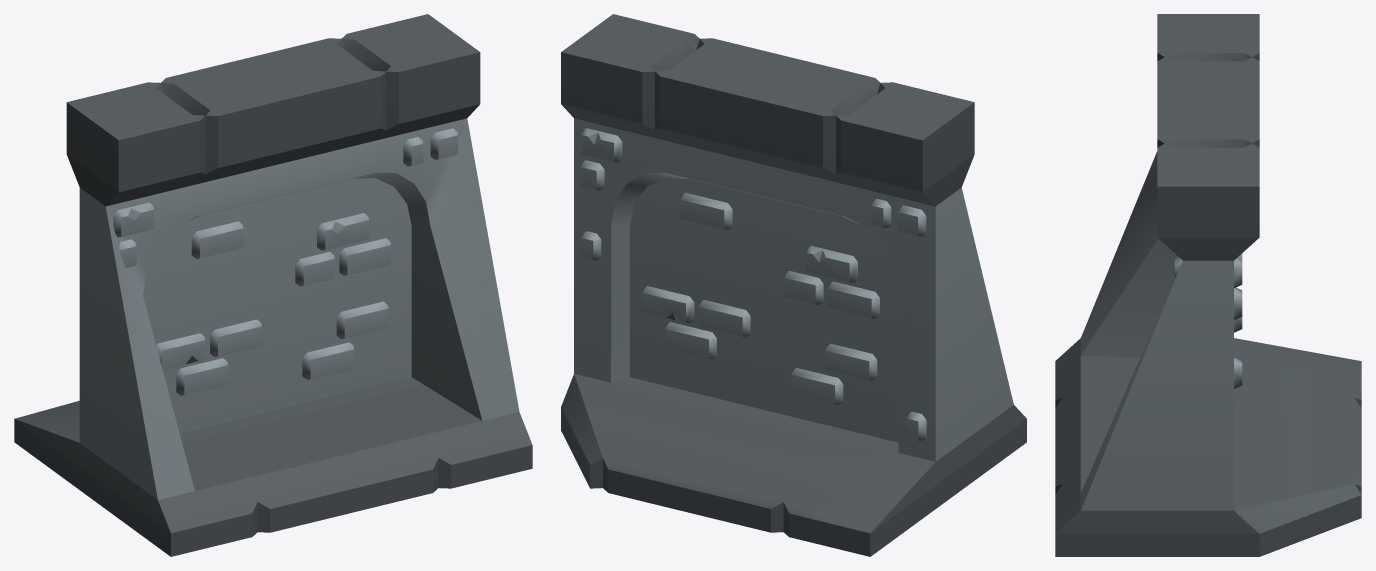
The model's file is arched_chimney.glb.
The picture shows the model from 3 angles, left to right: view 1: azimuth 30°, elevation 25°; view 2: azimuth 150°, elevation 25°; view 3: azimuth 270°, elevation 25°; orthographic projection. The views are drawn at different scales.
Parts seen in each view (by area): view 1: wall_arched.001; view 2: wall_arched.001; view 3: wall_arched.001.
Boxes of the visible parts, box(x1,y1,x2,y2) form: wall_arched.001: box(14, 14, 532, 556); wall_arched.001: box(561, 14, 1026, 556); wall_arched.001: box(1055, 14, 1361, 556).
Size of the model in its own units: 4 by 4 by 3.
1 material, 1 textured.
